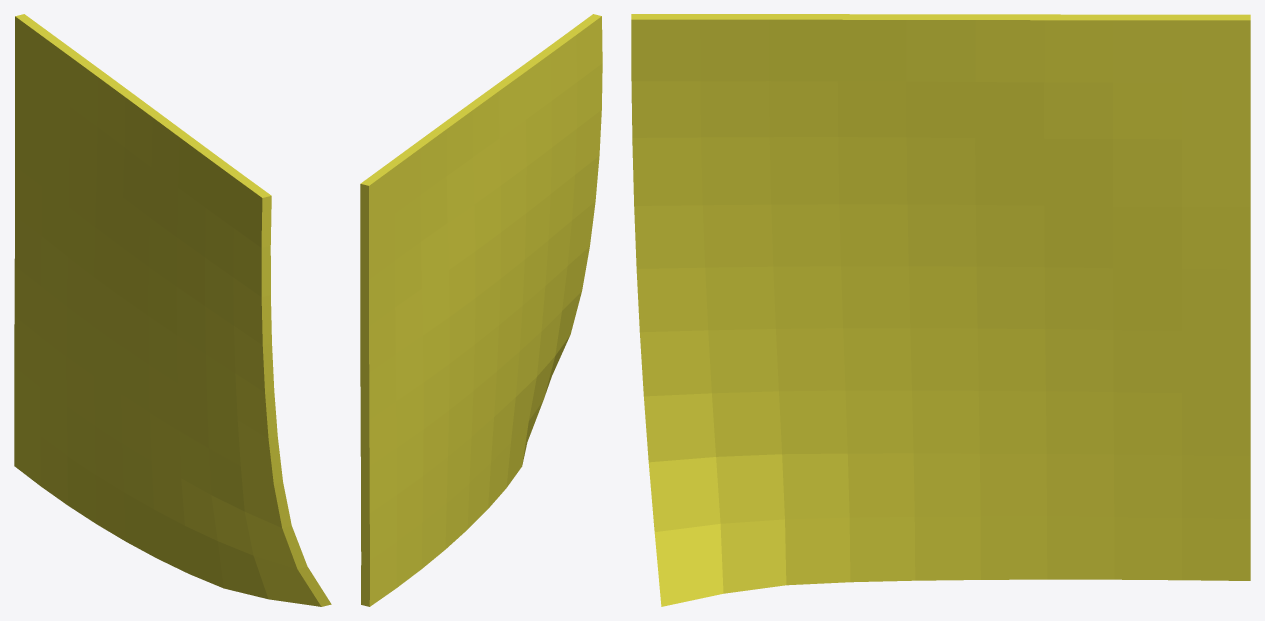
The model's file is postit.gltf.
3 views of the same model, side by side, from view 1: azimuth 30°, elevation 25°; view 2: azimuth 150°, elevation 25°; view 3: azimuth 270°, elevation 25° (orthographic). The views are drawn at different scales.
Parts seen in each view (by area): view 1: Cube.035; view 2: Cube.035; view 3: Cube.035.
Part boxes in pixels (x1=…): Cube.035: x1=14, y1=14, x2=331, y2=606; Cube.035: x1=360, y1=14, x2=602, y2=606; Cube.035: x1=631, y1=14, x2=1250, y2=606.
Size of the model in its own units: 0.3908 by 1.99 by 1.99.
